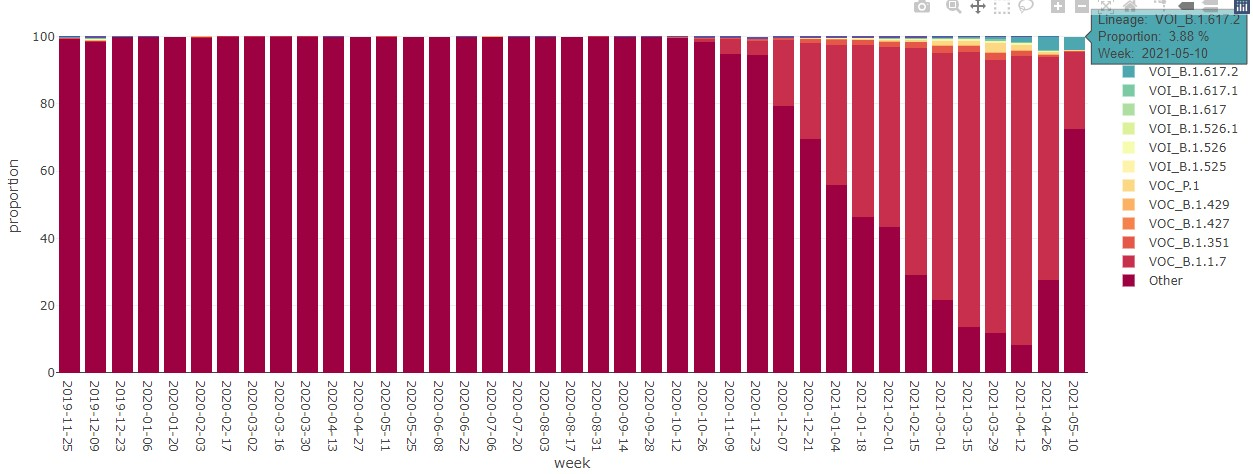

Layout of this report page (visuals, bound fields, positions):
{"tool":"powerbi","page":{"name":"var props","canvas":[1280,720],"ordinal":0},"visuals":[{"type":"hundredPercentStackedColumnChart","title":"Variant Proportions per two weeks","fields":{"Category":["lineage_prevalence_by_2week2021-05-19.week"],"Series":["lineage_prevalence_by_2week2021-05-19.lineage_type"],"Y":["Sum(lineage_prevalence_by_2week2021-05-19.proportion)"]},"box":[16,16,1248,688],"z":0}]}

Visuals, with their boxes on the page's 1280x720 design canvas (x1, y1, x2, y2). These are canvas units, not pixel positions in the 1253x474 screenshot, which may show the page scaled, cropped or inside an application window:
"Variant Proportions per two weeks" hundredPercentStackedColumnChart: [x1=16, y1=16, x2=1264, y2=704]
